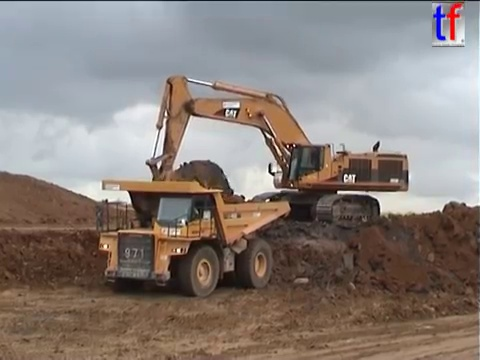truck: (142, 73, 411, 231), (93, 177, 294, 300), (276, 189, 350, 225)
